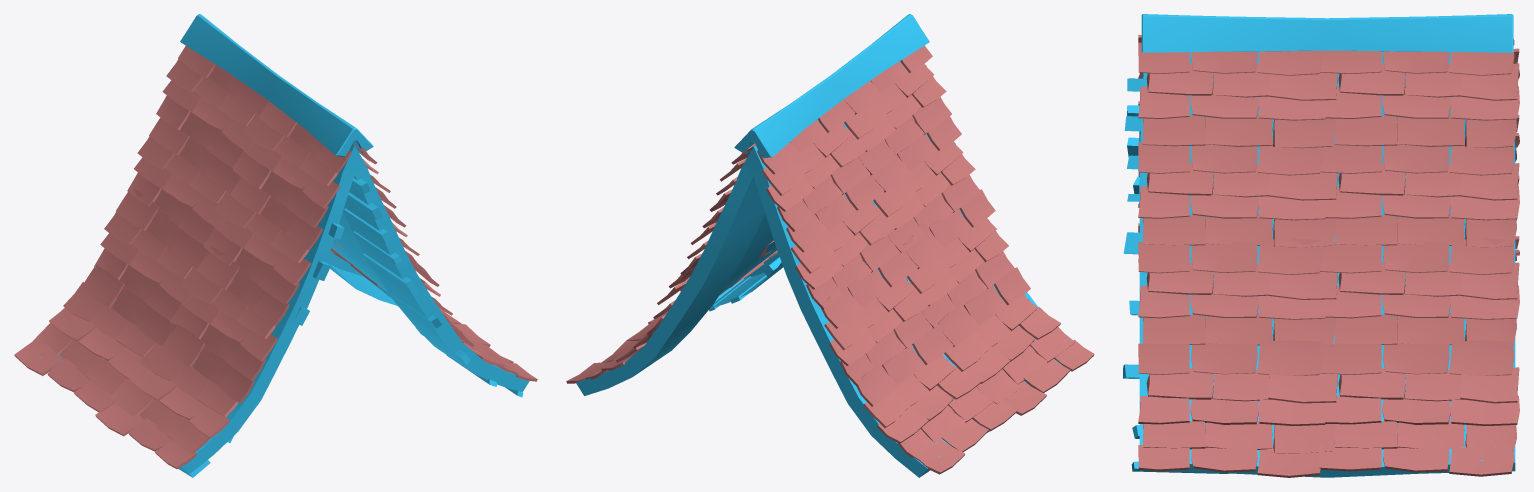
The model's file is Roof_01.fbx.
The picture shows the model from 3 angles, left to right: view 1: azimuth 30°, elevation 25°; view 2: azimuth 150°, elevation 25°; view 3: azimuth 270°, elevation 25°; orthographic projection. The views are drawn at different scales.
Parts seen in each view (by area): view 1: Roof_01_LOD0; view 2: Roof_01_LOD0; view 3: Roof_01_LOD0.
Part boxes in pixels (left/top/right/bottom): Roof_01_LOD0: left=14, top=14, right=537, bottom=477; Roof_01_LOD0: left=566, top=14, right=1094, bottom=477; Roof_01_LOD0: left=1123, top=14, right=1519, bottom=477.
Size of what is drawn, in the model's own units: 1035 by 837 by 809.
